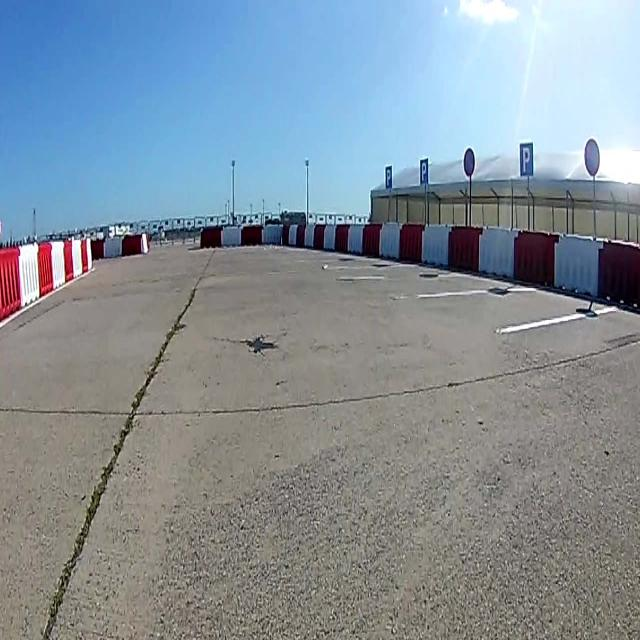park: (520, 142, 534, 177), (419, 158, 429, 185), (384, 164, 393, 189)
parkyasak: (584, 138, 600, 177), (463, 147, 475, 177)
